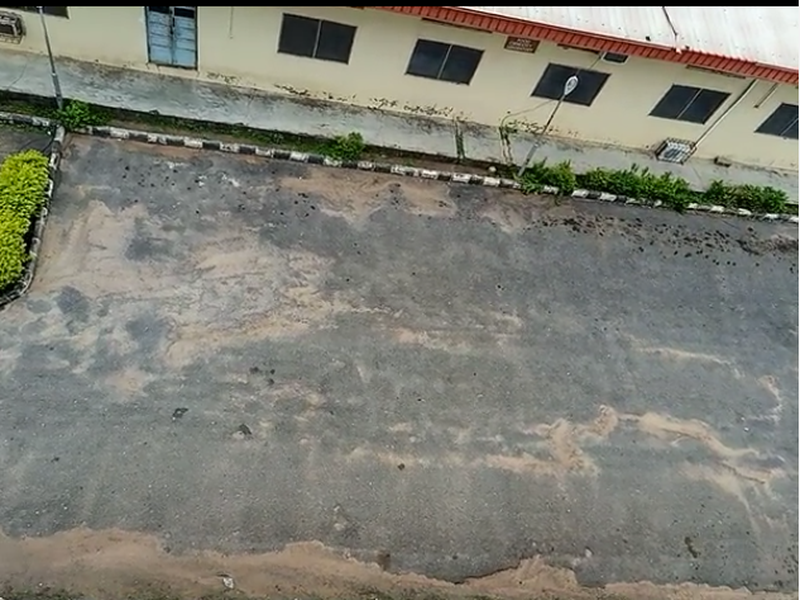four: (587, 169, 702, 344)
one: (9, 102, 162, 299)
three: (412, 155, 530, 343)
two: (236, 134, 366, 320)
